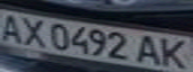0: (45, 20, 72, 52)
2: (106, 29, 133, 62)
4: (66, 25, 90, 55)
9: (87, 27, 109, 57)
A: (133, 33, 166, 66), (0, 11, 27, 43)
K: (154, 36, 193, 71)
X: (15, 16, 51, 47)
